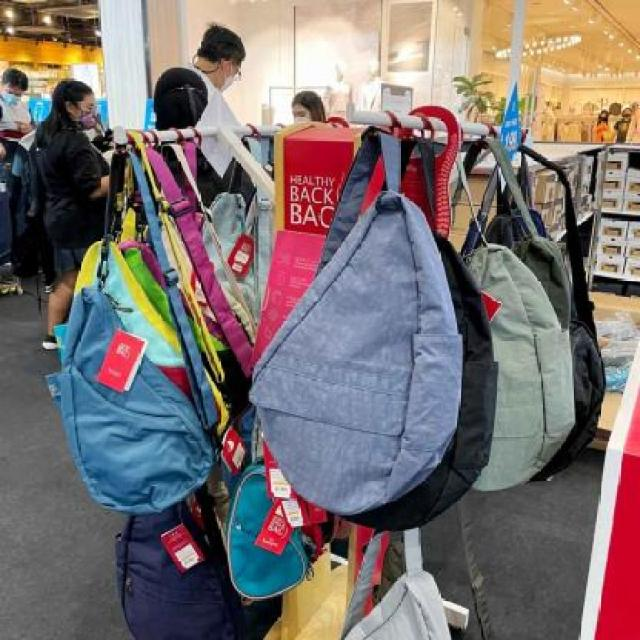Bag: (248, 114, 506, 537), (29, 114, 236, 524)
